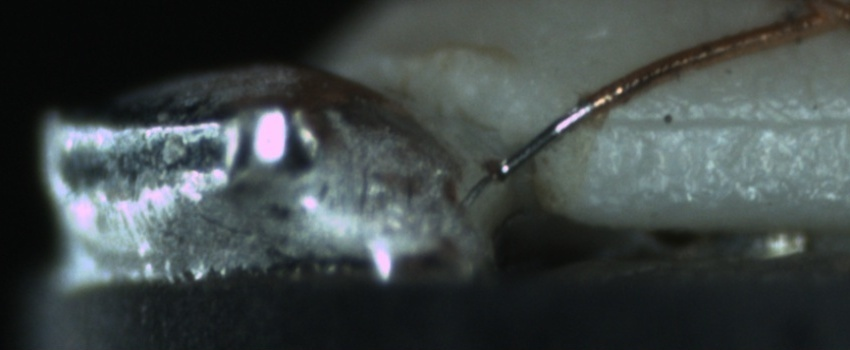CL: (769, 0, 850, 42)
DL: (607, 88, 848, 154)
TS: (498, 98, 598, 180)
